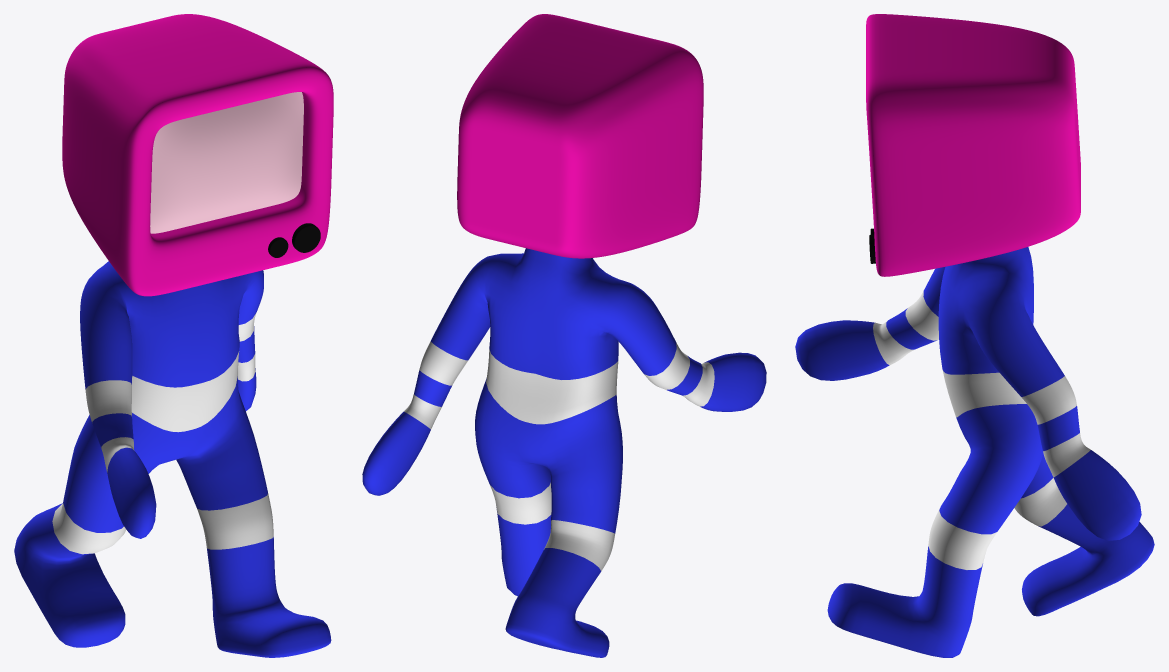
File: TV_man.gltf
3 renders of one model, left to right at view 1: azimuth 30°, elevation 25°; view 2: azimuth 150°, elevation 25°; view 3: azimuth 270°, elevation 25°, orthographic. The views are drawn at different scales.
Visible parts, largest first — view 1: Node1, Node3, Node4, Node5; view 2: Node1, Node3; view 3: Node1, Node3.
Boxes of the visible parts, x1=… form: Node1: x1=14, y1=261, x2=331, y2=657; Node3: x1=62, y1=14, x2=333, y2=296; Node4: x1=150, y1=92, x2=303, y2=233; Node5: x1=292, y1=223, x2=320, y2=252; Node1: x1=362, y1=248, x2=766, y2=657; Node3: x1=457, y1=14, x2=703, y2=258; Node1: x1=795, y1=247, x2=1154, y2=657; Node3: x1=866, y1=14, x2=1080, y2=276.
Size of what is drawn, in the model's own units: 2.69 by 5.71 by 3.18.
